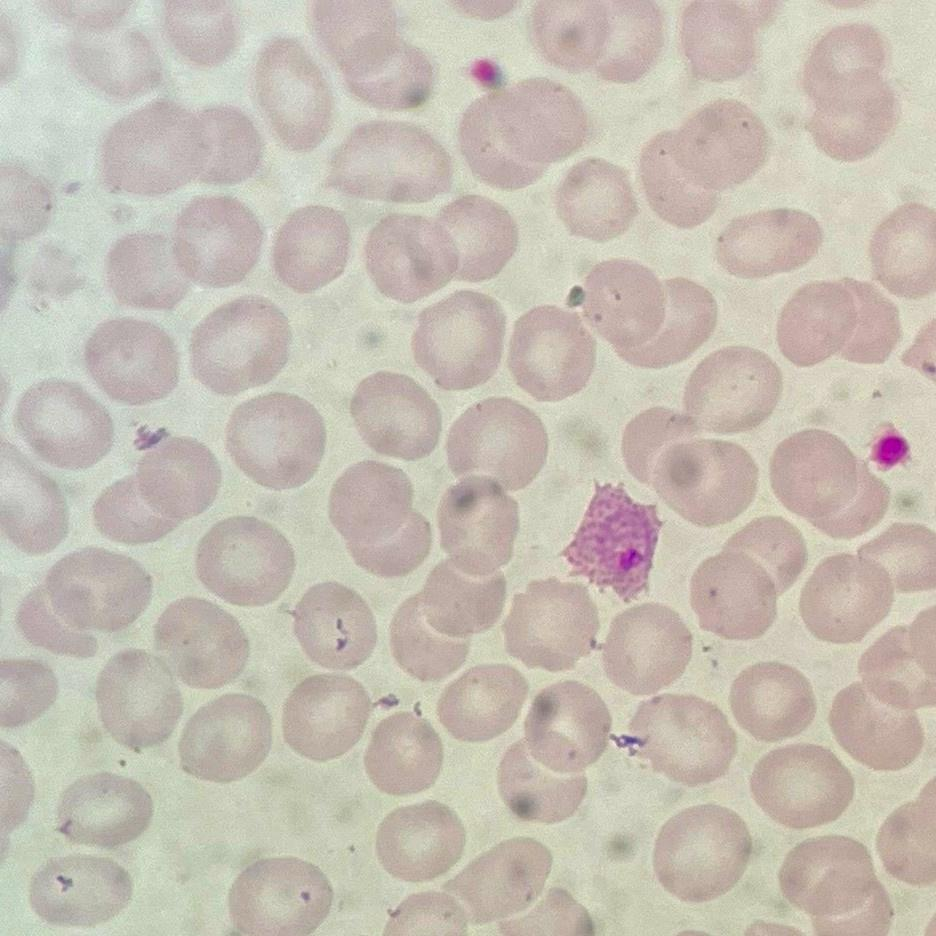Infected: (562, 477, 665, 605)
Uninfected: (639, 100, 768, 219), (457, 77, 588, 187), (307, 2, 433, 109), (94, 437, 218, 545), (799, 26, 898, 159), (768, 428, 887, 538), (326, 460, 433, 574), (99, 101, 223, 199), (325, 121, 453, 207), (39, 544, 153, 640), (777, 834, 888, 930), (228, 389, 328, 492), (190, 296, 294, 393), (624, 692, 732, 785), (648, 436, 760, 525), (249, 39, 339, 149), (650, 805, 751, 903), (576, 259, 673, 358), (13, 376, 115, 470), (152, 594, 251, 690), (194, 514, 295, 607), (444, 398, 545, 491), (409, 292, 506, 388), (500, 580, 599, 673), (92, 649, 183, 750), (442, 835, 550, 920), (172, 192, 269, 286), (363, 210, 463, 301), (776, 279, 878, 368), (83, 314, 182, 404), (680, 346, 781, 434), (348, 370, 444, 461), (432, 475, 523, 571), (519, 679, 612, 772), (687, 549, 782, 640), (279, 673, 375, 763), (176, 692, 273, 781), (799, 553, 894, 643), (508, 307, 596, 404), (749, 742, 850, 826), (826, 680, 919, 770), (599, 604, 691, 694), (227, 857, 333, 935), (414, 560, 509, 645), (55, 769, 154, 850), (712, 515, 804, 602), (496, 737, 590, 822), (102, 227, 193, 312), (292, 577, 376, 669), (29, 852, 132, 927), (435, 660, 529, 742), (64, 17, 157, 98), (678, 1, 770, 82), (727, 661, 816, 743), (373, 801, 463, 882), (271, 204, 354, 291), (433, 194, 516, 281), (389, 596, 472, 683), (715, 208, 819, 277), (362, 711, 447, 794), (856, 621, 932, 712), (528, 0, 622, 73), (14, 582, 98, 661), (553, 161, 635, 240), (621, 406, 697, 490), (868, 203, 936, 294), (856, 521, 933, 595), (162, 0, 240, 66)
